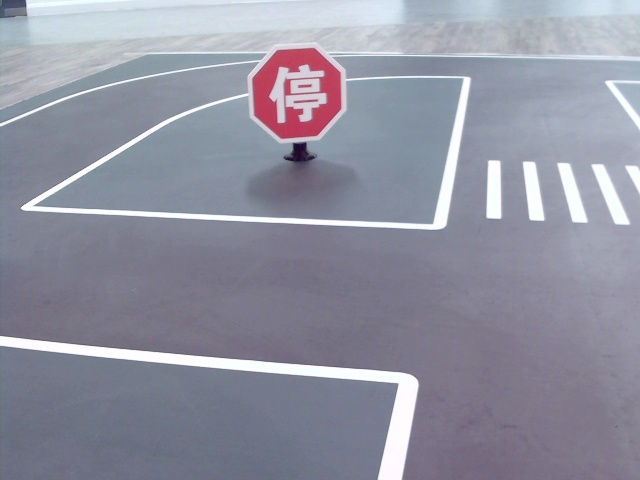stop: (267, 61, 328, 121)
